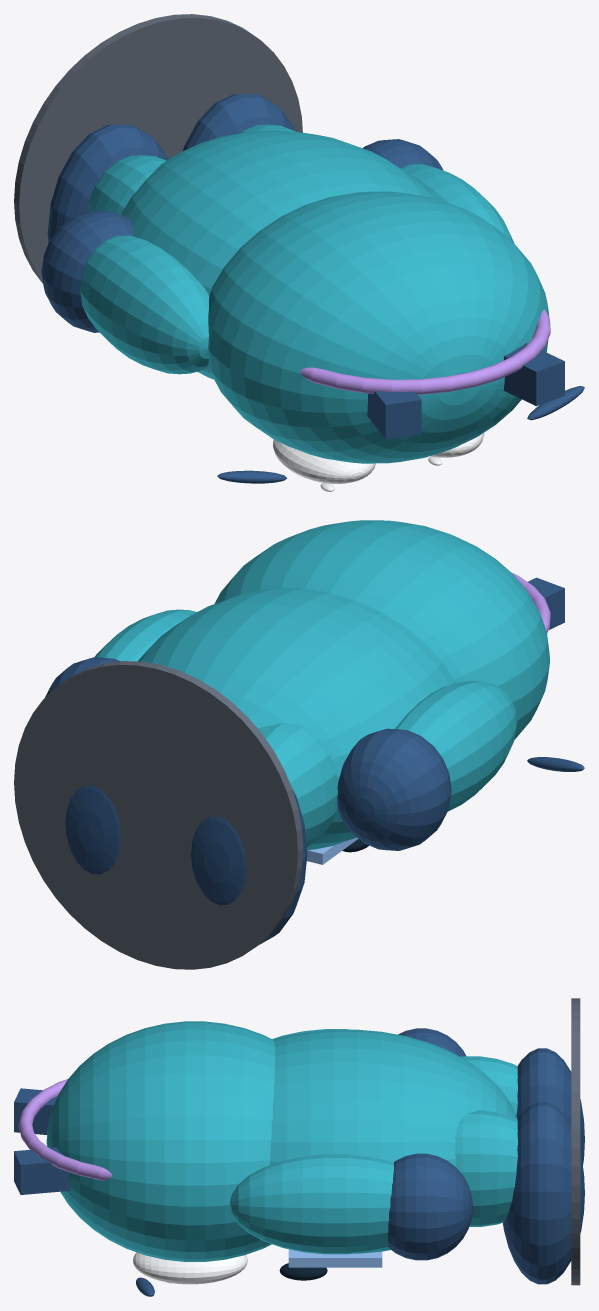
File: luma_reaction_focused.glb
3 views of the same model, one above another, from view 1: azimuth 30°, elevation 25°; view 2: azimuth 150°, elevation 25°; view 3: azimuth 270°, elevation 25° (orthographic). The views are drawn at different scales.
Visible parts, largest first — view 1: CHR_Head, CHR_DisplayBase, CHR_Torso, CHR_LeftArm, CHR_LeftHand, CHR_LeftFoot, CHR_StatusRing, CHR_RightFoot, CHR_LeftLeg, CHR_RightArm, CHR_RightAntenna, CHR_LeftAntenna (+4 smaller); view 2: CHR_DisplayBase, CHR_Torso, CHR_Head, CHR_LeftHand, CHR_LeftArm, CHR_LeftLeg, CHR_LeftFoot, CHR_RightFoot, CHR_RightArm, CHR_LeftAntenna, CHR_RightHand, CHR_LeftBrow; view 3: CHR_Head, CHR_Torso, CHR_RightArm, CHR_RightFoot, CHR_RightHand, CHR_RightLeg, CHR_LeftFoot, CHR_DisplayBase, CHR_RightEyeWhite, CHR_StatusRing, CHR_RightAntenna, CHR_ChestSensor (+4 smaller).
Boxes of the visible parts, left/top/right/bottom form: CHR_Head: left=208, top=191, right=550, bottom=463; CHR_DisplayBase: left=14, top=14, right=302, bottom=283; CHR_Torso: left=121, top=130, right=434, bottom=379; CHR_LeftArm: left=80, top=235, right=209, bottom=374; CHR_LeftHand: left=41, top=210, right=132, bottom=332; CHR_LeftFoot: left=47, top=124, right=168, bottom=243; CHR_StatusRing: left=300, top=310, right=550, bottom=394; CHR_RightFoot: left=183, top=93, right=294, bottom=150; CHR_LeftLeg: left=88, top=155, right=166, bottom=214; CHR_RightArm: left=401, top=164, right=514, bottom=243; CHR_RightAntenna: left=503, top=343, right=564, bottom=406; CHR_LeftAntenna: left=367, top=391, right=421, bottom=439; CHR_DisplayBase: left=14, top=661, right=302, bottom=969; CHR_Torso: left=138, top=587, right=455, bottom=850; CHR_Head: left=214, top=520, right=550, bottom=739; CHR_LeftHand: left=337, top=728, right=451, bottom=850; CHR_LeftArm: left=395, top=681, right=517, bottom=811; CHR_LeftLeg: left=258, top=722, right=337, bottom=846; CHR_LeftFoot: left=191, top=789, right=307, bottom=944; CHR_RightFoot: left=65, top=786, right=120, bottom=874; CHR_RightArm: left=94, top=609, right=196, bottom=661; CHR_LeftAntenna: left=528, top=577, right=564, bottom=629; CHR_RightHand: left=45, top=657, right=120, bottom=697; CHR_LeftBrow: left=527, top=757, right=584, bottom=771; CHR_Head: left=46, top=1021, right=274, bottom=1261; CHR_Torso: left=270, top=1029, right=517, bottom=1253; CHR_RightArm: left=230, top=1154, right=393, bottom=1254; CHR_RightFoot: left=503, top=1102, right=584, bottom=1284; CHR_RightHand: left=387, top=1153, right=472, bottom=1260; CHR_RightLeg: left=454, top=1110, right=517, bottom=1226; CHR_LeftFoot: left=516, top=1048, right=584, bottom=1165; CHR_DisplayBase: left=571, top=998, right=580, bottom=1285; CHR_RightEyeWhite: left=133, top=1252, right=247, bottom=1284; CHR_StatusRing: left=18, top=1079, right=111, bottom=1180; CHR_RightAntenna: left=14, top=1147, right=70, bottom=1194; CHR_ChestSensor: left=288, top=1249, right=382, bottom=1267.
Size of the model in its own units: 2.64 by 1.9 by 3.78.
